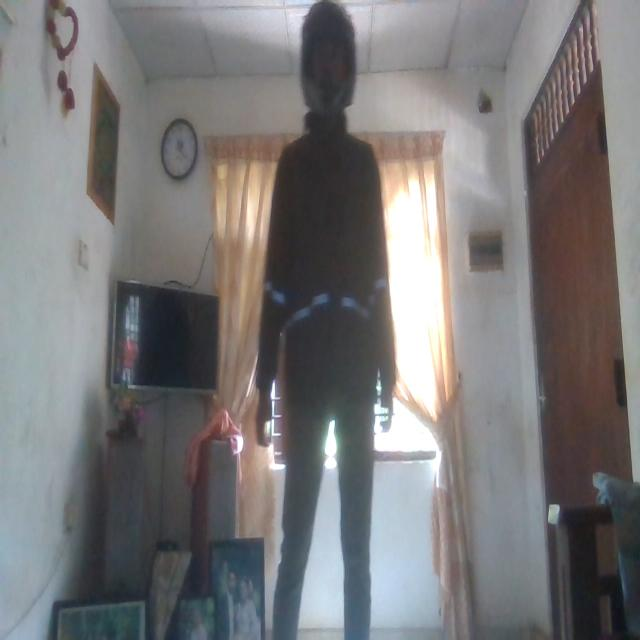Helmet_Wearer: (293, 1, 366, 129)
Jacket_Wearer: (262, 130, 400, 482)
Person: (258, 0, 397, 638)
